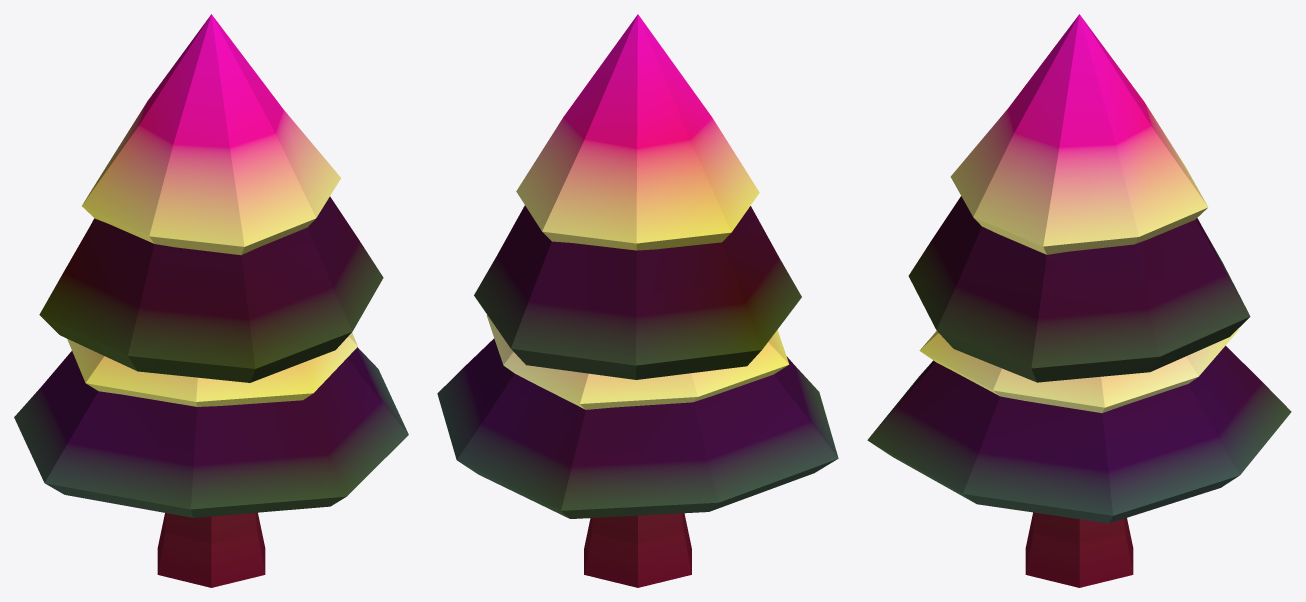
Rendered from Tree_Pine_Snow_Small.glb.
3 renders of one model, left to right at view 1: azimuth 30°, elevation 25°; view 2: azimuth 150°, elevation 25°; view 3: azimuth 270°, elevation 25°, orthographic.
Parts seen in each view (by area): view 1: Tree_Pine_Snow_Small; view 2: Tree_Pine_Snow_Small; view 3: Tree_Pine_Snow_Small.
Part boxes in pixels (box(x1,y1,x2,y2)): Tree_Pine_Snow_Small: box(14, 14, 408, 587); Tree_Pine_Snow_Small: box(437, 14, 838, 587); Tree_Pine_Snow_Small: box(867, 14, 1291, 587).
Bounding box in the file's own units: 1.82 × 2.59 × 1.82.
